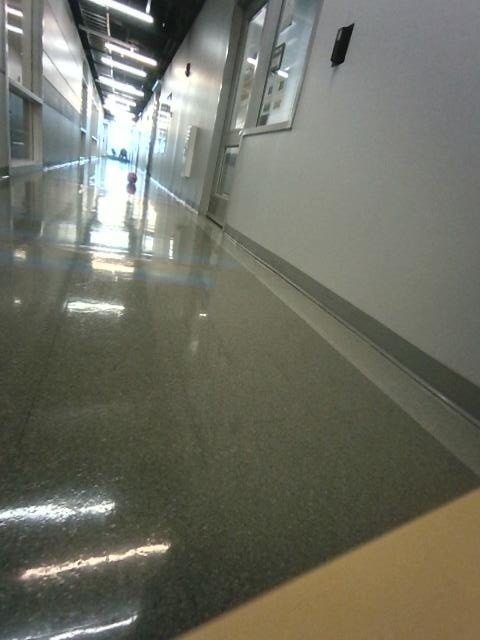ball: (127, 172, 136, 182)
